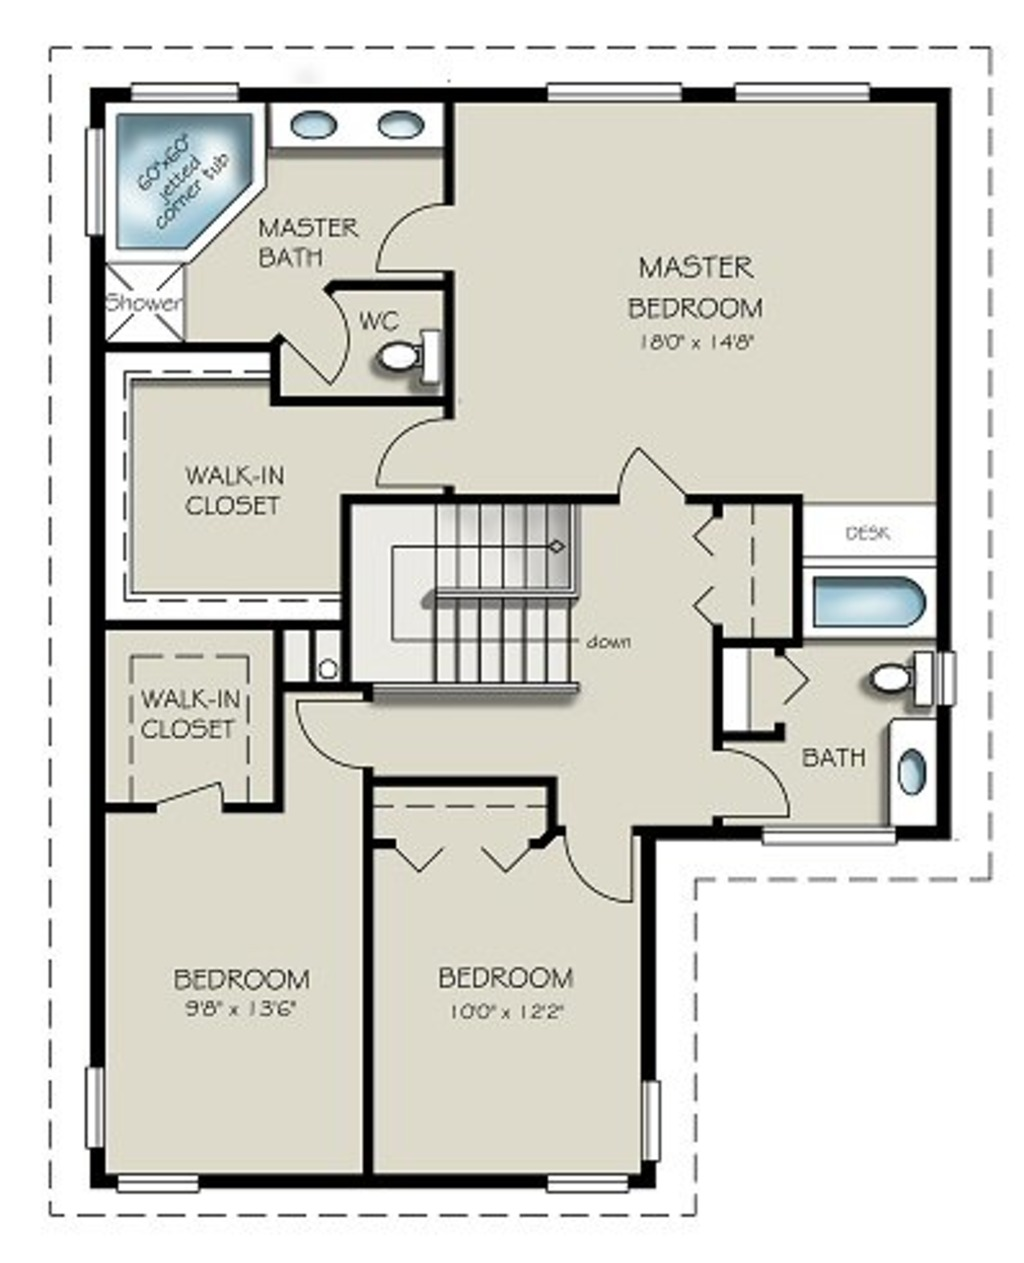door: (253, 294, 353, 385), (364, 196, 468, 279), (370, 415, 460, 504), (553, 829, 639, 919), (714, 746, 805, 827), (603, 444, 697, 517), (299, 694, 372, 775)
large_sink: (366, 323, 462, 394), (866, 648, 953, 715)
small_sink: (256, 102, 441, 153), (874, 717, 941, 831)
stairs: (349, 504, 591, 689)
window: (545, 73, 685, 107), (731, 77, 864, 109), (130, 75, 247, 106), (110, 1167, 210, 1200), (82, 127, 110, 244), (83, 1056, 114, 1157), (551, 1163, 630, 1196), (641, 1077, 668, 1173)
